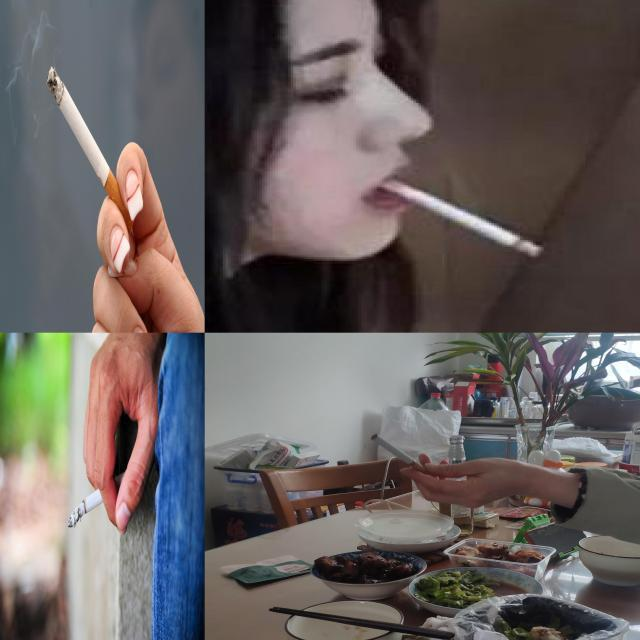smoke: (350, 168, 562, 264), (46, 65, 136, 237), (68, 471, 128, 528), (369, 434, 432, 476)
